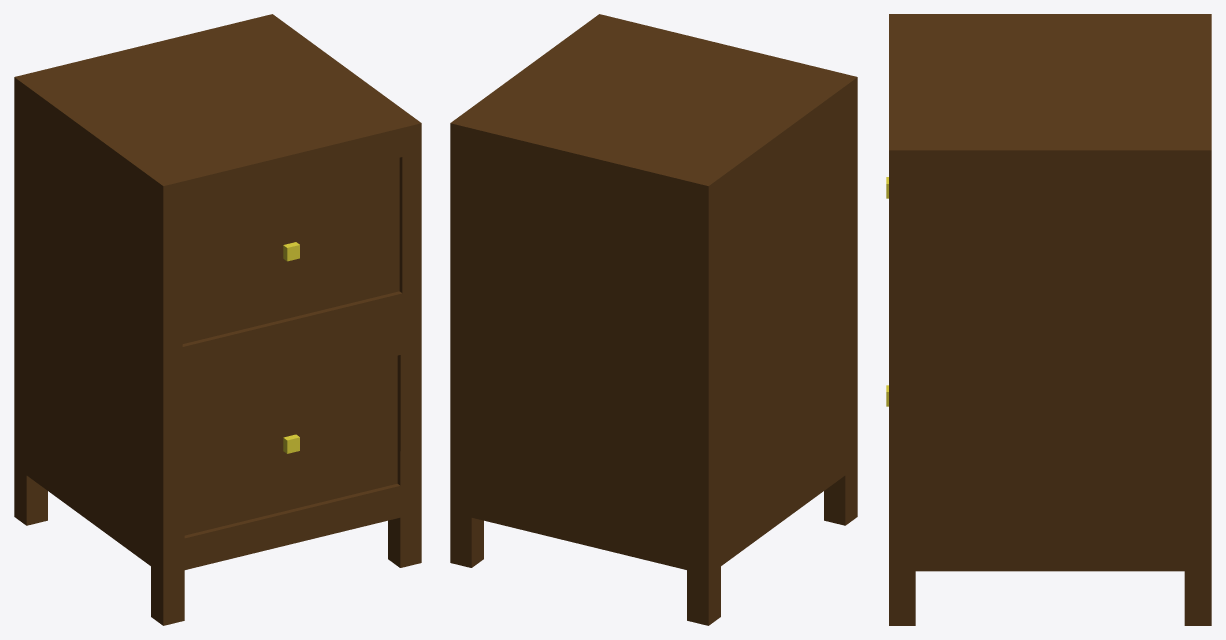
File: Dresser.fbx
3 renders of one model, left to right at view 1: azimuth 30°, elevation 25°; view 2: azimuth 150°, elevation 25°; view 3: azimuth 270°, elevation 25°, orthographic. The views are drawn at different scales.
Parts seen in each view (by area): view 1: Dresser; view 2: Dresser; view 3: Dresser.
Boxes of the visible parts, bbox=[...] form: Dresser: bbox=[14, 14, 421, 625]; Dresser: bbox=[450, 14, 857, 625]; Dresser: bbox=[886, 14, 1211, 625].
Bounding box in the file's own units: 367 × 597 × 370.
